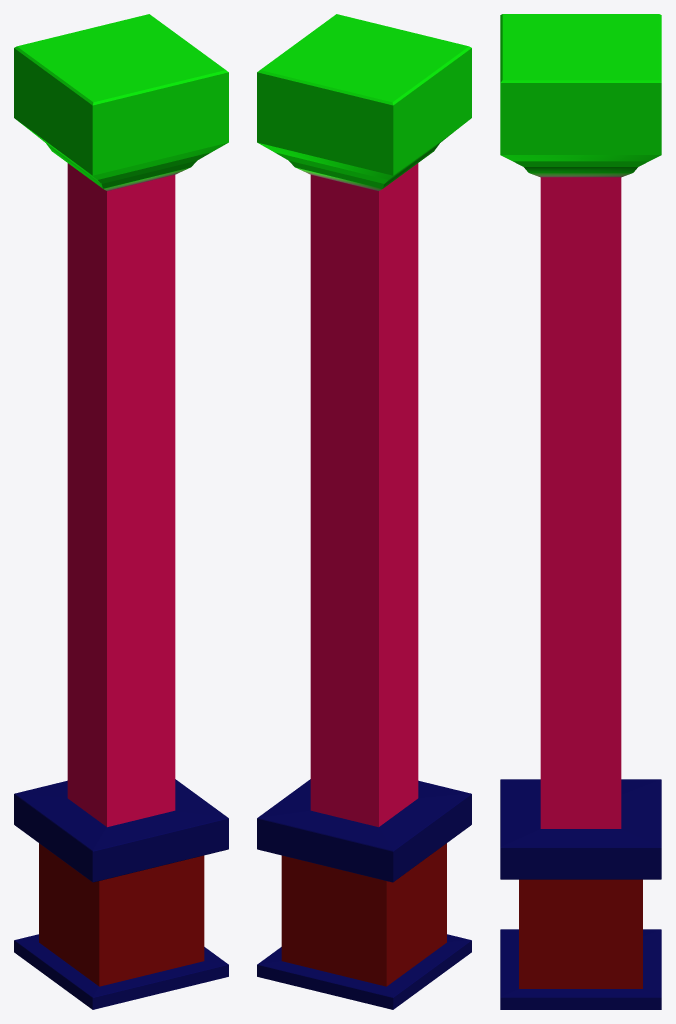
Rendered from PillarLonger.fbx.
3 renders of one model, left to right at view 1: azimuth 30°, elevation 25°; view 2: azimuth 150°, elevation 25°; view 3: azimuth 270°, elevation 25°, orthographic. The views are drawn at different scales.
Parts seen in each view (by area): view 1: Column; view 2: Column; view 3: Column.
Part boxes in pixels (bbox=[...]): Column: bbox=[14, 14, 228, 1009]; Column: bbox=[257, 14, 471, 1009]; Column: bbox=[500, 14, 661, 1009].
Size of the model in its own units: 120 by 763 by 120.
